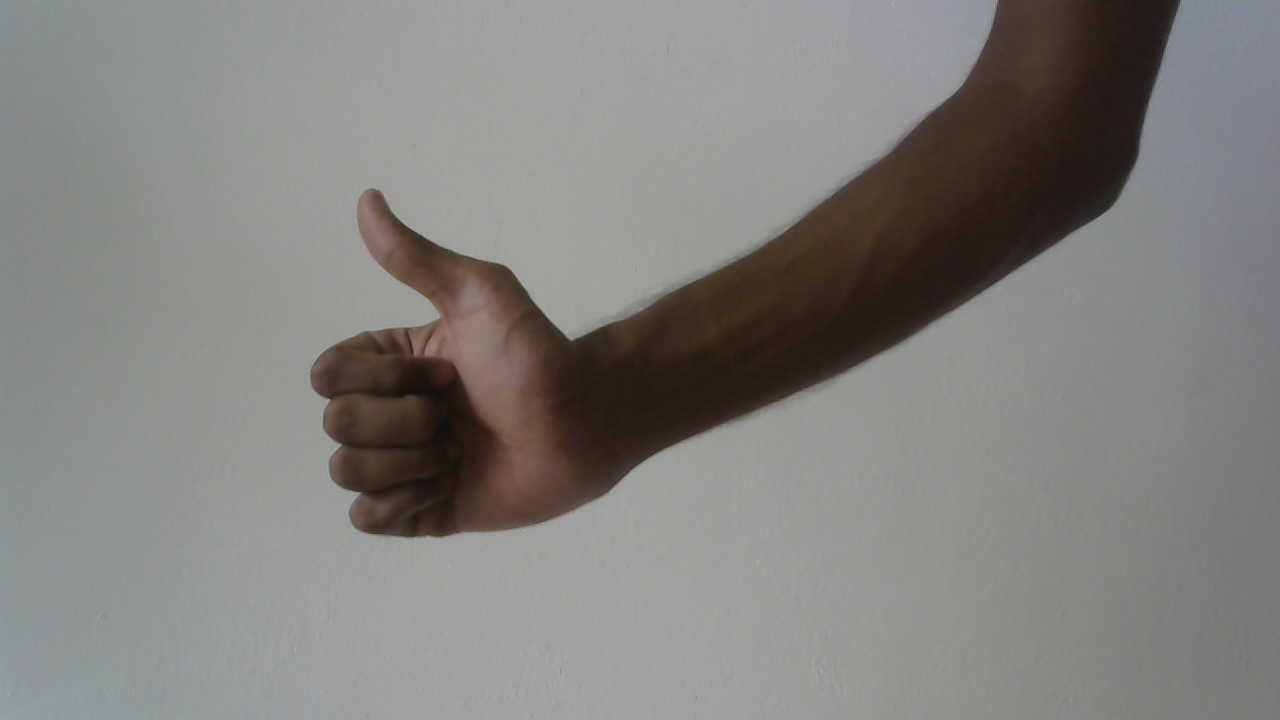thumbsup: (303, 169, 627, 570)
